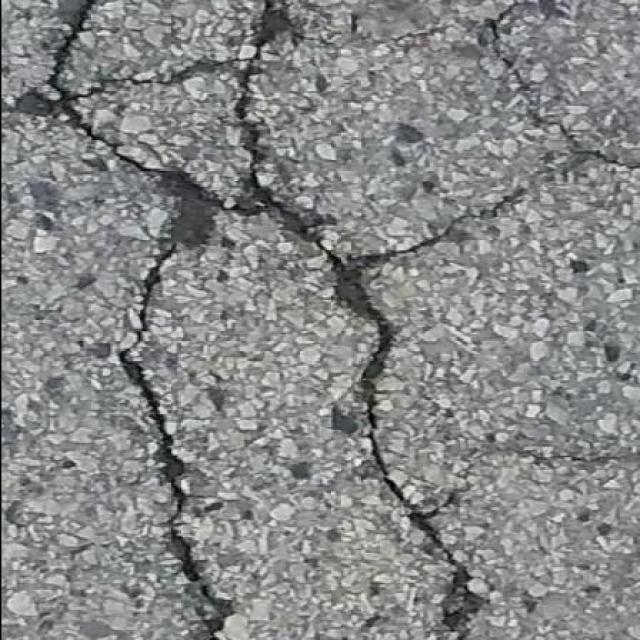Crack: (1, 0, 216, 516), (331, 203, 501, 640), (78, 0, 332, 262), (402, 0, 640, 168), (167, 520, 232, 640), (504, 452, 640, 465)
